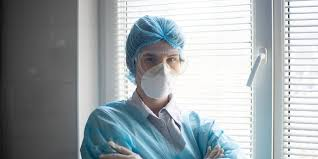with_mask_and_cap: (127, 17, 184, 101)
